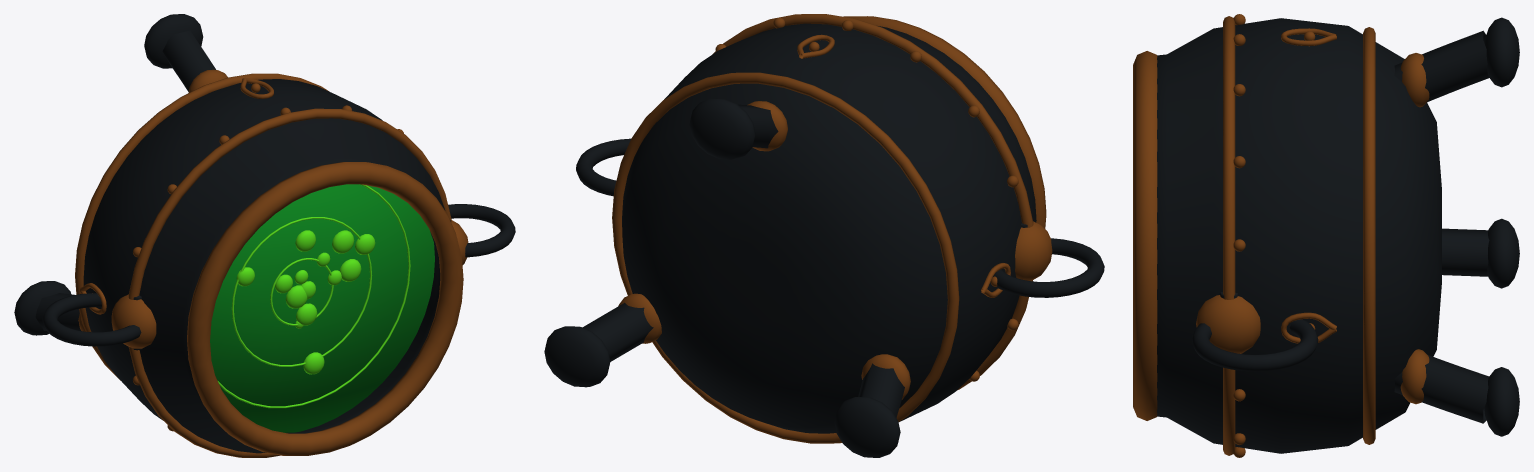
Rendered from Cauldron.obj.
The picture shows the model from 3 angles, left to right: view 1: azimuth 30°, elevation 25°; view 2: azimuth 150°, elevation 25°; view 3: azimuth 270°, elevation 25°; orthographic projection. The views are drawn at different scales.
Parts seen in each view (by area): view 1: Cauldron_Hollow_Cast_Body, Separate_Brew_Volume, Heavy_Rolled_Rim, Upper_Belly_Band, Lower_Belly_Band, Swing_Handle.001, Swing_Handle, Curved_Cast_Leg.002, Claw_Foot.002, Handle_Socket.001, Claw_Foot, Surface_Ripple.001 (+2 smaller); view 2: Cauldron_Hollow_Cast_Body, Lower_Belly_Band, Upper_Belly_Band, Heavy_Rolled_Rim, Claw_Foot.002, Claw_Foot, Claw_Foot.001, Swing_Handle.001, Curved_Cast_Leg.001, Handle_Socket.001, Swing_Handle, Curved_Cast_Leg (+4 smaller); view 3: Cauldron_Hollow_Cast_Body, Heavy_Rolled_Rim, Lower_Belly_Band, Upper_Belly_Band, Curved_Cast_Leg.001, Curved_Cast_Leg.002, Swing_Handle, Handle_Socket, Curved_Cast_Leg, Claw_Foot.002, Claw_Foot.001, Claw_Foot (+4 smaller).
Boxes of the visible parts, left/top/right/bottom form: Cauldron_Hollow_Cast_Body: left=83, top=79, right=445, bottom=453; Separate_Brew_Volume: left=210, top=184, right=434, bottom=432; Heavy_Rolled_Rim: left=187, top=162, right=463, bottom=455; Upper_Belly_Band: left=128, top=108, right=451, bottom=457; Lower_Belly_Band: left=75, top=73, right=329, bottom=380; Swing_Handle.001: left=42, top=293, right=141, bottom=346; Swing_Handle: left=448, top=204, right=515, bottom=257; Curved_Cast_Leg.002: left=162, top=30, right=215, bottom=91; Claw_Foot.002: left=144, top=14, right=203, bottom=68; Handle_Socket.001: left=111, top=294, right=156, bottom=348; Claw_Foot: left=14, top=281, right=70, bottom=335; Surface_Ripple.001: left=231, top=217, right=372, bottom=366; Cauldron_Hollow_Cast_Body: left=622, top=23, right=1036, bottom=433; Lower_Belly_Band: left=612, top=72, right=959, bottom=443; Upper_Belly_Band: left=712, top=14, right=1033, bottom=390; Heavy_Rolled_Rim: left=843, top=16, right=1046, bottom=228; Claw_Foot.002: left=689, top=98, right=755, bottom=159; Claw_Foot: left=834, top=397, right=900, bottom=457; Claw_Foot.001: left=544, top=326, right=610, bottom=387; Swing_Handle.001: left=993, top=238, right=1104, bottom=297; Curved_Cast_Leg.001: left=582, top=302, right=653, bottom=361; Handle_Socket.001: left=1015, top=221, right=1052, bottom=280; Swing_Handle: left=576, top=138, right=630, bottom=196; Curved_Cast_Leg: left=858, top=363, right=908, bottom=417; Cauldron_Hollow_Cast_Body: left=1157, top=18, right=1441, bottom=453; Heavy_Rolled_Rim: left=1133, top=51, right=1157, bottom=420; Lower_Belly_Band: left=1363, top=27, right=1375, bottom=444; Upper_Belly_Band: left=1223, top=16, right=1235, bottom=455; Curved_Cast_Leg.001: left=1394, top=354, right=1488, bottom=423; Curved_Cast_Leg.002: left=1394, top=30, right=1489, bottom=102; Swing_Handle: left=1192, top=319, right=1318, bottom=371; Handle_Socket: left=1196, top=295, right=1260, bottom=353; Curved_Cast_Leg: left=1442, top=228, right=1489, bottom=276; Claw_Foot.002: left=1484, top=17, right=1519, bottom=87; Claw_Foot.001: left=1484, top=367, right=1519, bottom=436; Claw_Foot: left=1487, top=218, right=1519, bottom=288.
Bounding box in the file's own units: 1.19 × 0.89 × 0.745.
